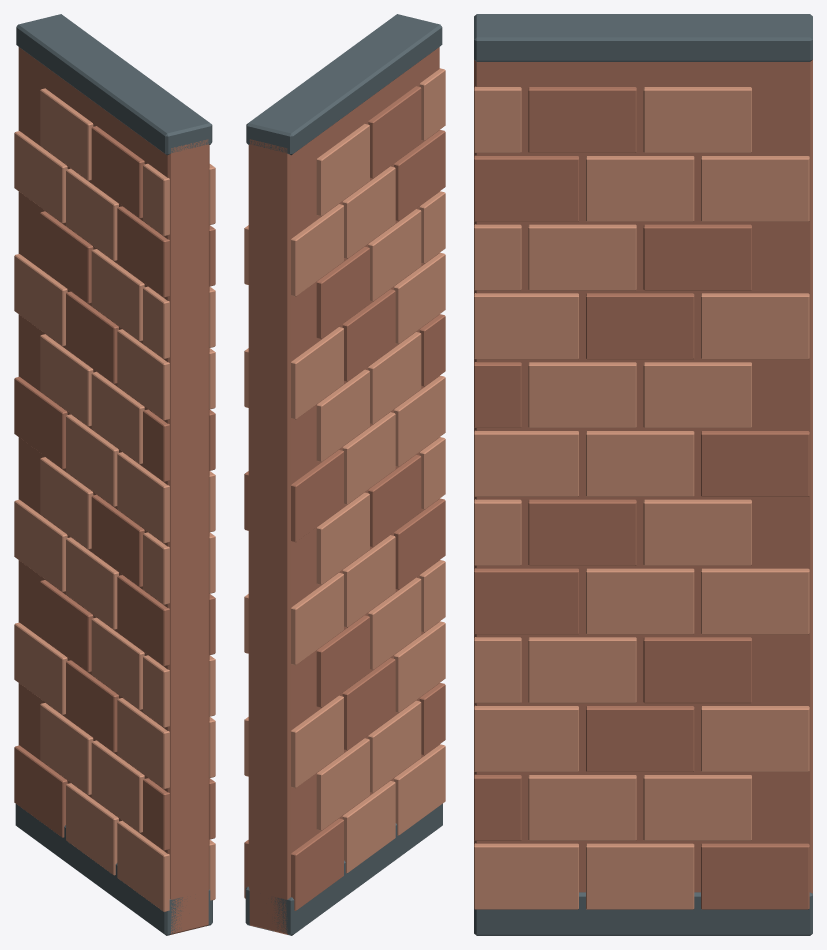
File: brick-wall.glb
3 renders of one model, left to right at view 1: azimuth 30°, elevation 25°; view 2: azimuth 150°, elevation 25°; view 3: azimuth 270°, elevation 25°, orthographic. The views are drawn at different scales.
Visible parts, largest first — view 1: Structural wall.002, Fired brick.072, Top coping.002; view 2: Structural wall.002, Fired brick.072, Top coping.002; view 3: Fired brick.072, Structural wall.002, Top coping.002.
Boxes of the visible parts, x1,y1,x2,y2 form: Structural wall.002: (14, 47, 215, 934); Fired brick.072: (14, 88, 215, 911); Top coping.002: (15, 14, 212, 935); Structural wall.002: (244, 47, 445, 934); Fired brick.072: (244, 68, 445, 873); Top coping.002: (245, 14, 442, 935); Fired brick.072: (474, 86, 809, 909); Structural wall.002: (474, 60, 812, 909); Top coping.002: (474, 14, 812, 935).
Size of the model in its own units: 0.199 by 2.93 by 1.
